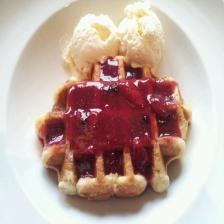ice cream: (58, 1, 164, 72)
waffles: (32, 58, 192, 200)
